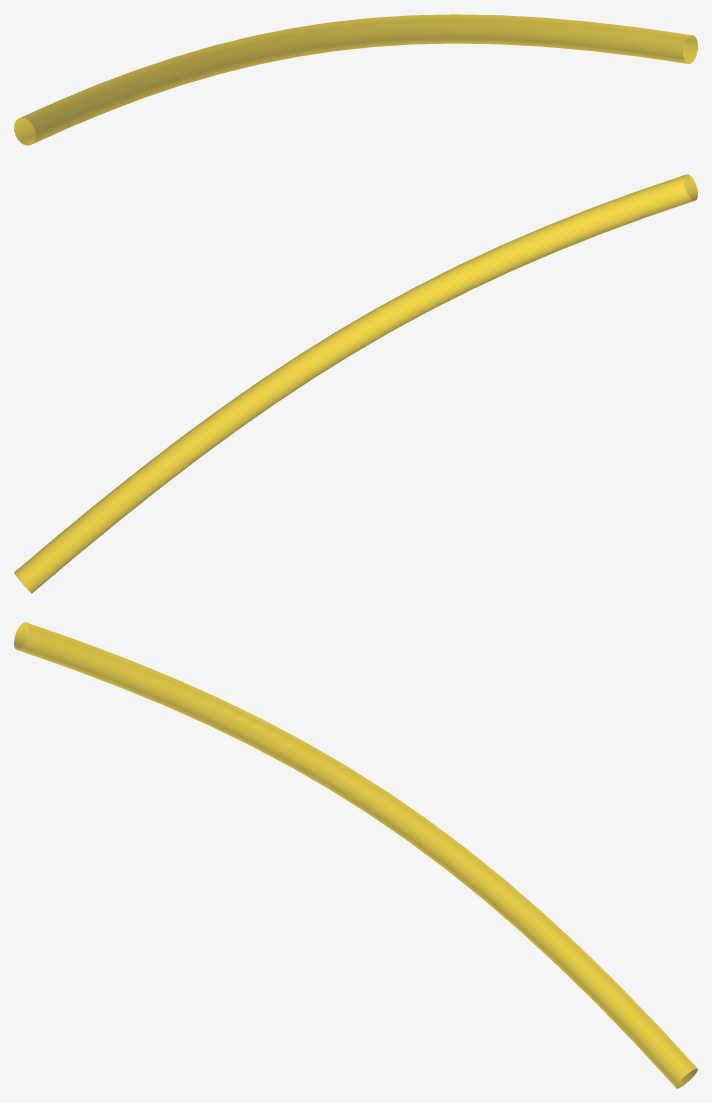
The model's file is Event_84804159_track_48.fbx.
3 views of the same model, one above another, from view 1: azimuth 90°, elevation 25°; view 2: azimuth 150°, elevation 25°; view 3: azimuth 270°, elevation 25° (orthographic). The views are drawn at different scales.
Visible parts, largest first — view 1: Model; view 2: Model; view 3: Model.
Part boxes in pixels (box(x1,y1,x2,y2)): Model: box(14, 14, 697, 145); Model: box(14, 174, 697, 593); Model: box(14, 622, 697, 1088).
Bounding box in the file's own units: 0.6185 × 0.4329 × 0.9369.
